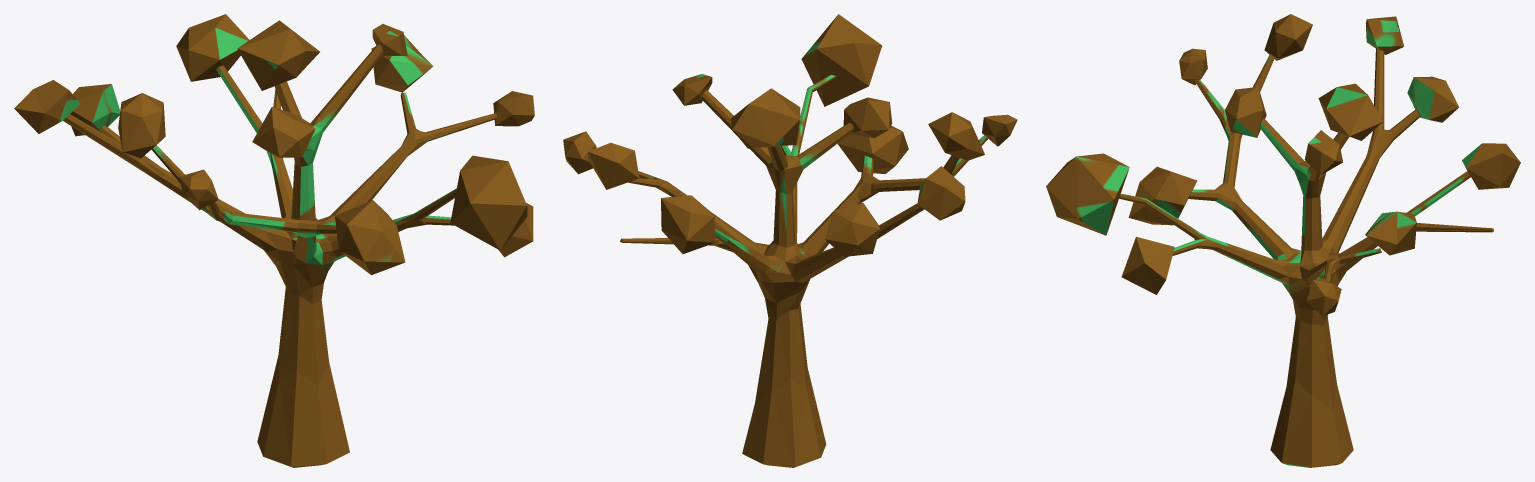
The model's file is treeSpring.obj.
3 views of the same model, side by side, from view 1: azimuth 30°, elevation 25°; view 2: azimuth 150°, elevation 25°; view 3: azimuth 270°, elevation 25° (orthographic). The views are drawn at different scales.
Parts seen in each view (by area): view 1: Cube_Cube.001; view 2: Cube_Cube.001; view 3: Cube_Cube.001.
Boxes of the visible parts, left/top/right/bottom form: Cube_Cube.001: left=14, top=14, right=534, bottom=467; Cube_Cube.001: left=563, top=14, right=1017, bottom=467; Cube_Cube.001: left=1046, top=14, right=1520, bottom=467.
Bounding box in the file's own units: 21.34 × 17.57 × 20.46.
Materials: 1 (1 with a texture image).
